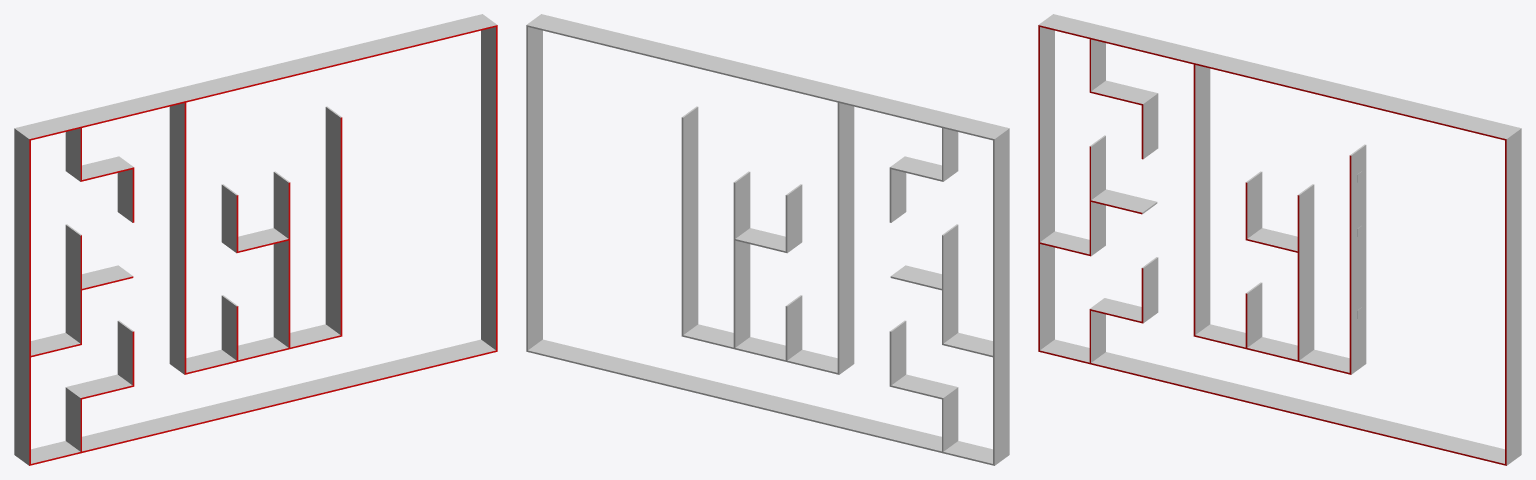
File: Part Studio 1 - Part 40.gltf
The picture shows the model from 3 angles, left to right: view 1: azimuth 30°, elevation 25°; view 2: azimuth 150°, elevation 25°; view 3: azimuth 330°, elevation 25°; orthographic projection.
Parts seen in each view (by area): view 1: Part 40; view 2: Part 40; view 3: Part 40.
Boxes of the visible parts, <box> form: Part 40: <box>14,14,497,465</box>; Part 40: <box>526,14,1009,465</box>; Part 40: <box>1038,14,1521,465</box>.
Size of the model in its own units: 3.6 by 2.4 by 0.2.
